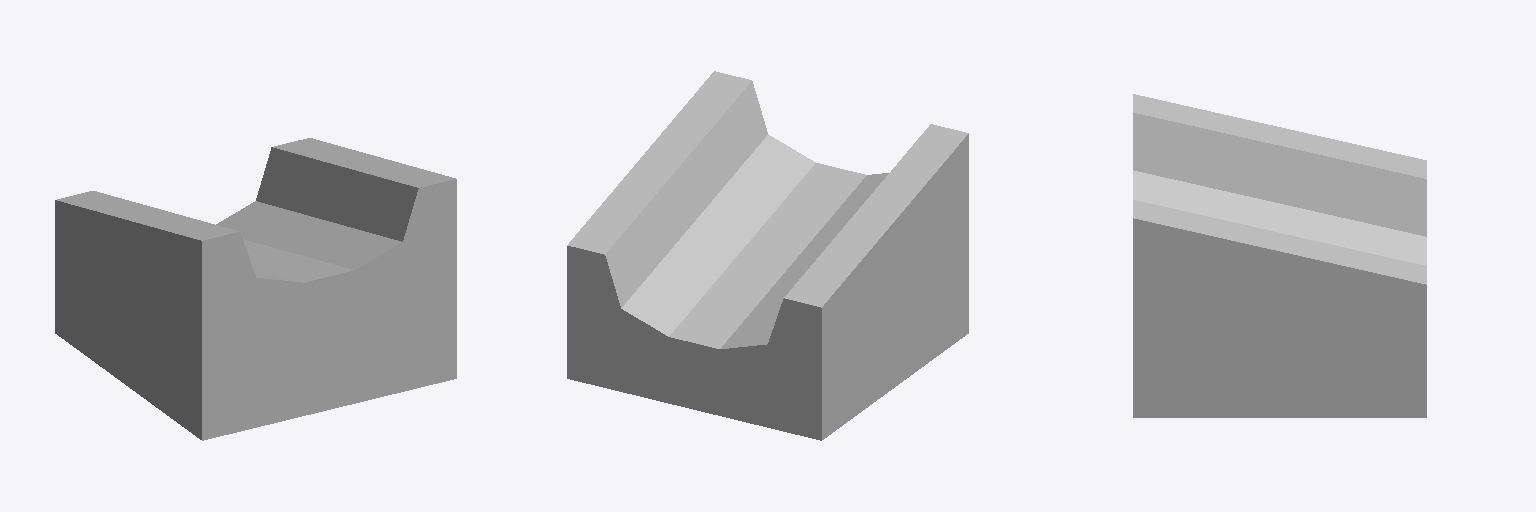
Rendered from slant-solid-a.obj.
The picture shows the model from 3 angles: view 1: azimuth 30°, elevation 25°; view 2: azimuth 150°, elevation 25°; view 3: azimuth 270°, elevation 25°; orthographic projection.
Parts seen in each view (by area): view 1: slant-solid-a; view 2: slant-solid-a; view 3: slant-solid-a.
Part boxes in pixels (left/top/right/bottom): slant-solid-a: left=55, top=138, right=456, bottom=440; slant-solid-a: left=567, top=71, right=968, bottom=440; slant-solid-a: left=1133, top=94, right=1426, bottom=417.
Size of the model in its own units: 1 by 0.75 by 1.